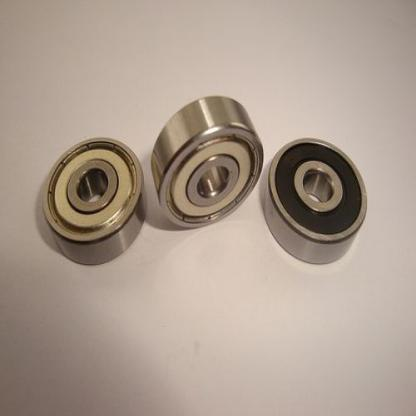FOD: (149, 92, 265, 231), (259, 134, 370, 266), (41, 134, 145, 273)
